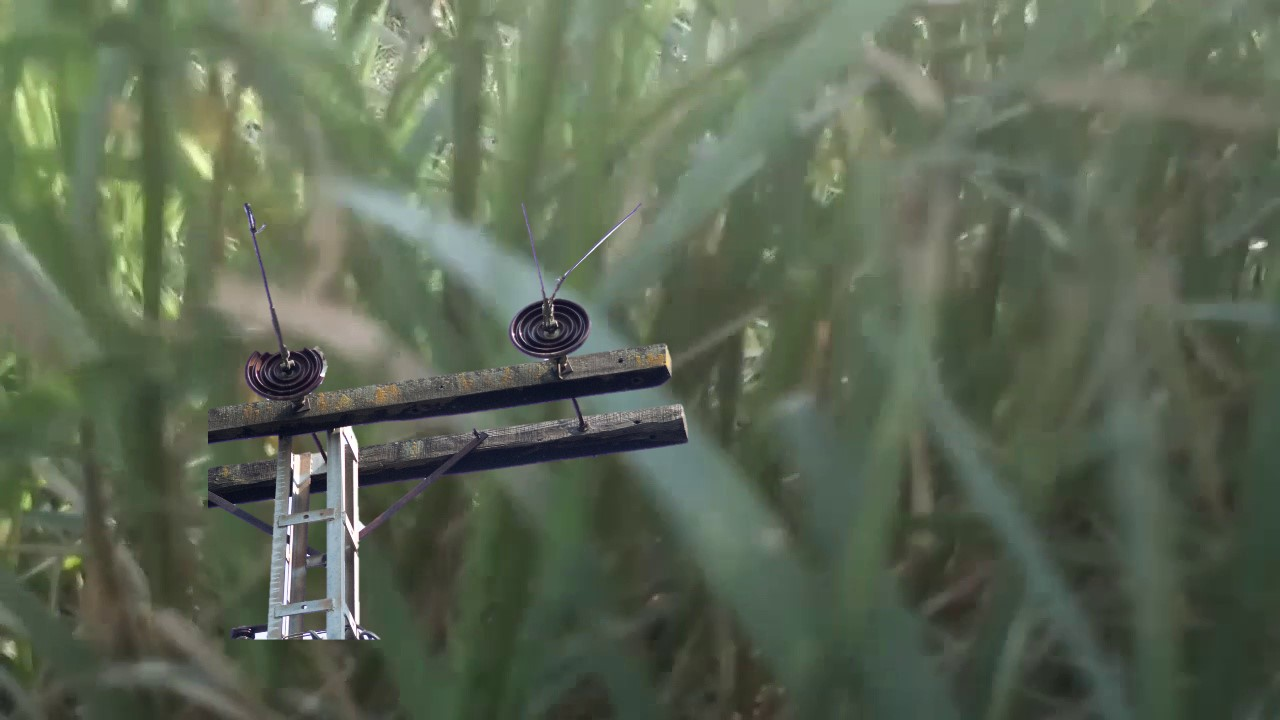defect_disc: (242, 342, 335, 405)
insulator_disc: (506, 295, 593, 361)
